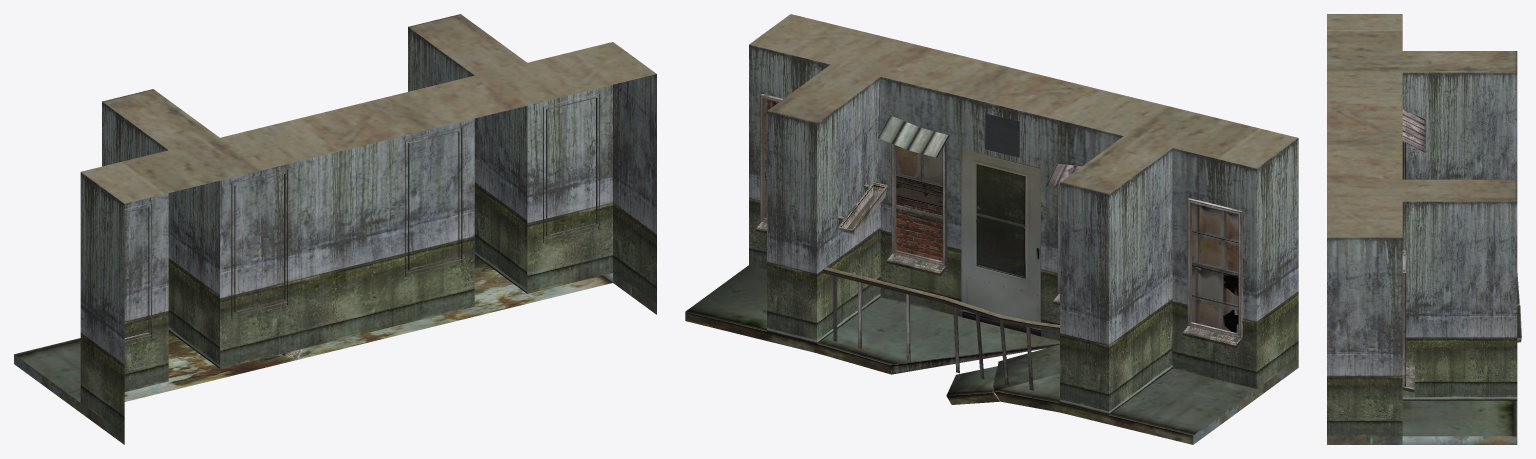
The model's file is Store_front_15_C.fbx.
3 renders of one model, left to right at view 1: azimuth 30°, elevation 25°; view 2: azimuth 150°, elevation 25°; view 3: azimuth 270°, elevation 25°, orthographic. The views are drawn at different scales.
Visible parts, largest first — view 1: Store_front_15_C; view 2: Store_front_15_C; view 3: Store_front_15_C.
Boxes of the visible parts, bbox=[...] form: Store_front_15_C: bbox=[14, 14, 656, 444]; Store_front_15_C: bbox=[685, 14, 1298, 444]; Store_front_15_C: bbox=[1327, 14, 1521, 444].
Bounding box in the file's own units: 700 × 325 × 258.
